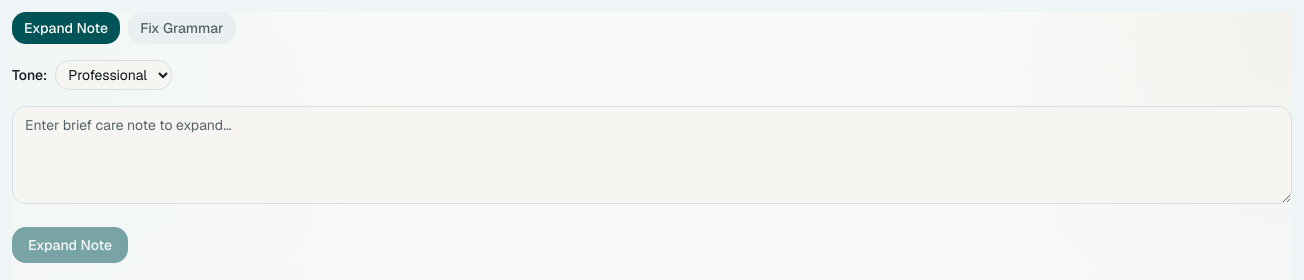
Test: CareNoteAssistant › hides tone selector in grammar mode
Step 1. Click the button "Fix Grammar" → (182,28), box [128,12,236,44]
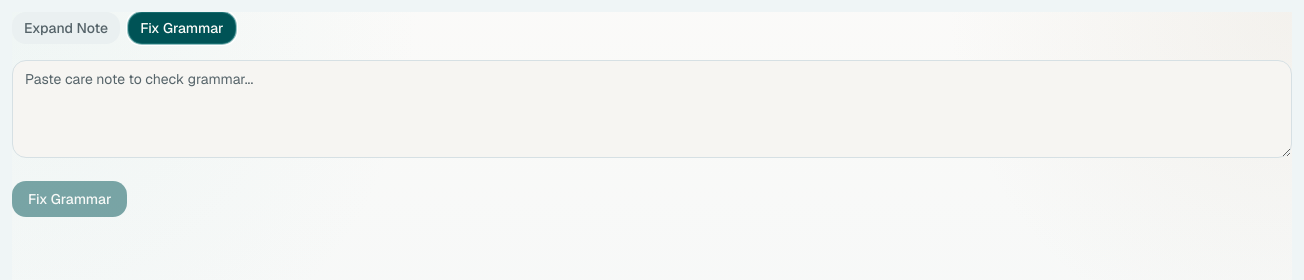
Expected: the label labelled "Tone:" is gone
